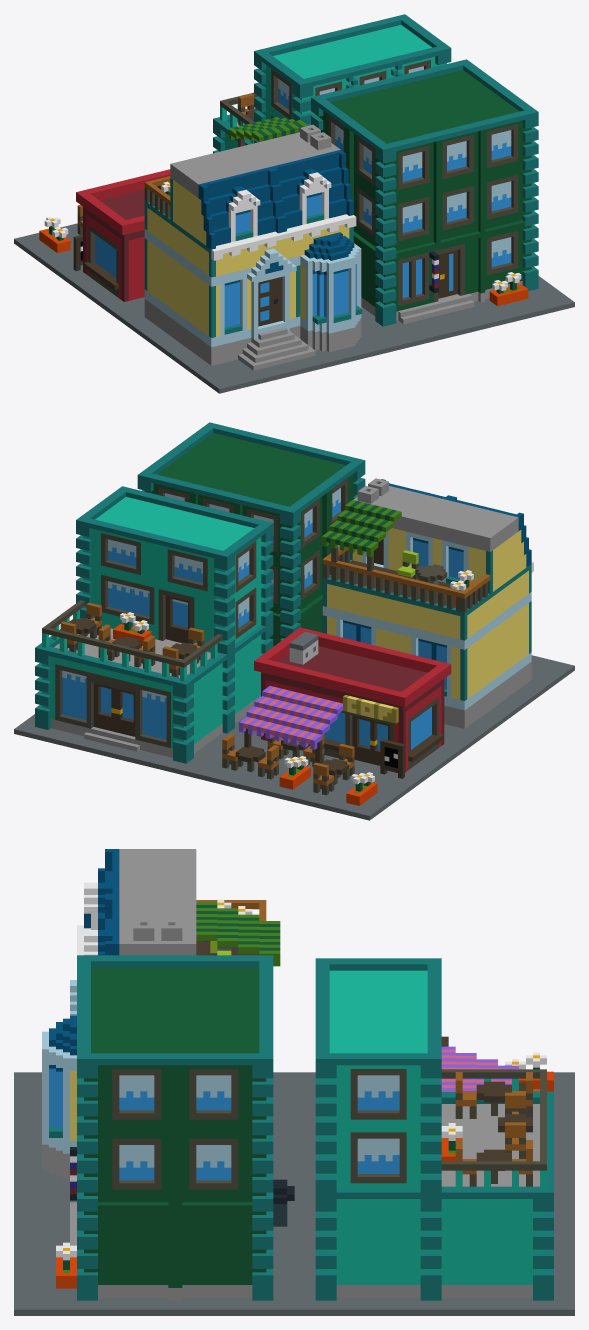
Rendered from building_small_9_overtile.obj.
3 renders of one model, top to bottom at view 1: azimuth 30°, elevation 25°; view 2: azimuth 150°, elevation 25°; view 3: azimuth 270°, elevation 25°, orthographic. The views are drawn at different scales.
Size of the model in its own units: 8 by 4 by 8.
Materials: 1 (1 with a texture image).
